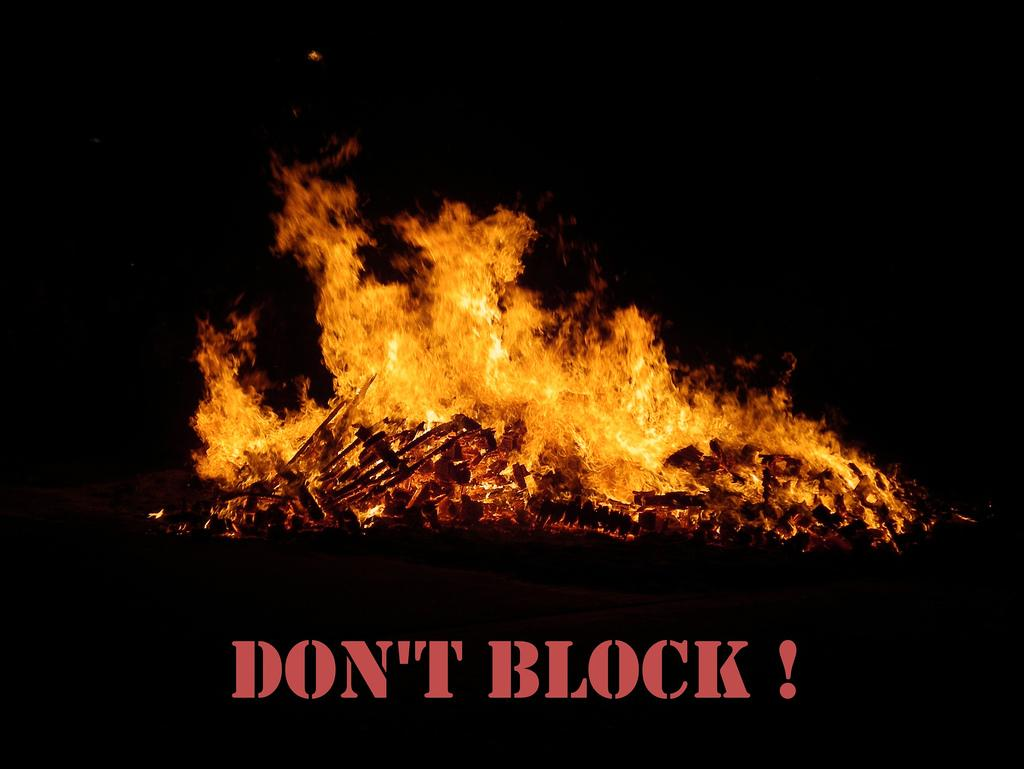fire: (322, 244, 528, 408), (538, 344, 662, 510), (196, 342, 314, 466)
